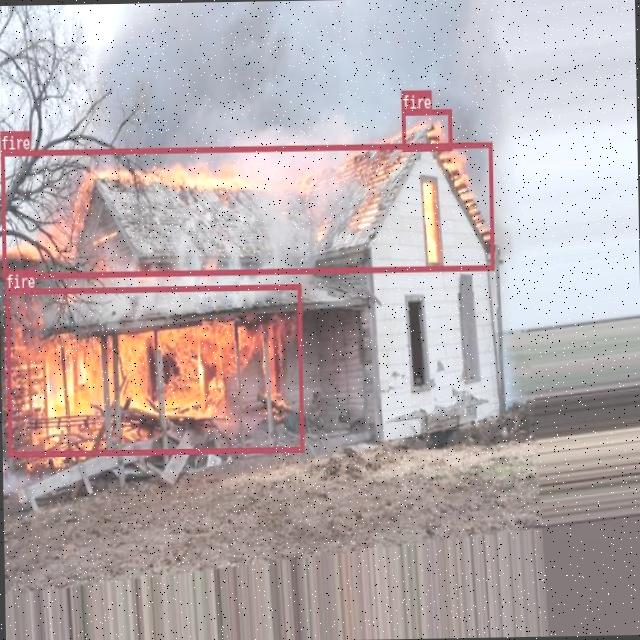fire: (0, 141, 493, 278), (4, 284, 303, 455), (400, 108, 451, 150)
